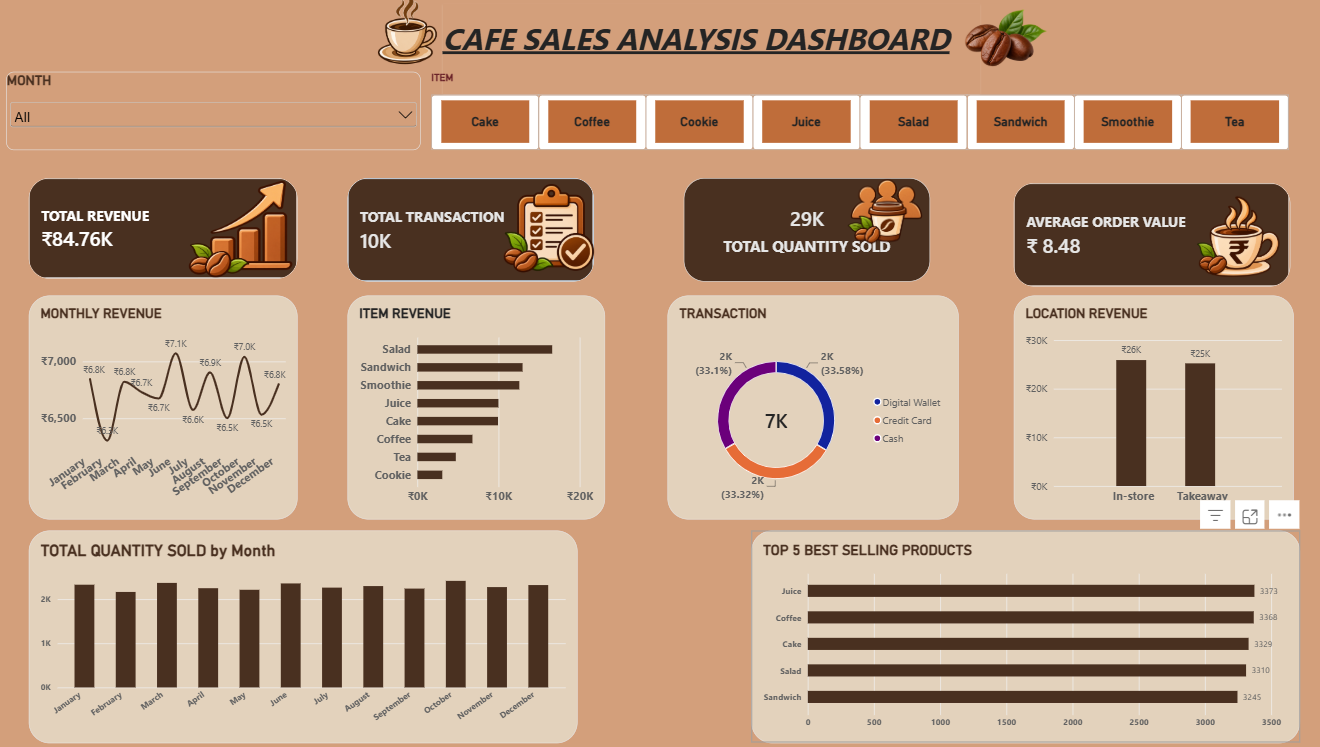

What the dashboard file says about the page in this screenshot:
{"tool":"powerbi","page":{"name":"Page 1","canvas":[1920,1080],"ordinal":0},"visuals":[{"type":"cardVisual","fields":{"Data":["clean_cafe_sales.TOTAL REVENUE"]},"box":[48,264,384,144],"z":0},{"type":"cardVisual","fields":{"Data":["clean_cafe_sales.TOTAL TRANSACTION"]},"box":[504,264,352,148],"z":1000},{"type":"card","fields":{"Values":["clean_cafe_sales.TOTAL QUANTITY SOLD"]},"box":[984,264,352,148],"z":2000},{"type":"cardVisual","fields":{"Data":["clean_cafe_sales.AVERAGE ORDER VALUE"]},"box":[1456,272,394.9,148],"z":3000},{"type":"lineChart","title":"MONTHLY REVENUE","fields":{"Category":["clean_cafe_sales.Month"],"Y":["clean_cafe_sales.TOTAL REVENUE"]},"box":[48,432,384,320],"z":4000},{"type":"clusteredBarChart","title":"ITEM REVENUE","fields":{"Category":["clean_cafe_sales.Item"],"Y":["clean_cafe_sales.TOTAL REVENUE"]},"box":[504,432,368,320],"z":5000},{"type":"donutChart","title":" TRANSACTION","fields":{"Category":["clean_cafe_sales.Payment Method"],"Y":["clean_cafe_sales.TOTAL TRANSACTION"]},"box":[960,432,416,320],"z":6000},{"type":"clusteredColumnChart","title":"LOCATION REVENUE","fields":{"Category":["clean_cafe_sales.Location"],"Y":["clean_cafe_sales.TOTAL REVENUE"]},"box":[1456,432,400,320],"z":7000},{"type":"clusteredColumnChart","fields":{"Category":["clean_cafe_sales.Month"],"Y":["clean_cafe_sales.TOTAL QUANTITY SOLD"]},"box":[48,768,784,304],"z":8000},{"type":"slicer","title":"MONTH","fields":{"Values":["clean_cafe_sales.Month"]},"box":[16,112,592,112],"z":9000},{"type":"advancedSlicerVisual","title":"ITEM","fields":{"Values":["clean_cafe_sales.Item"]},"box":[624,112,1232,112],"z":10000},{"type":"clusteredBarChart","title":"TOP 5 BEST SELLING PRODUCTS","fields":{"Category":["clean_cafe_sales.Item"],"Y":["clean_cafe_sales.TOTAL QUANTITY SOLD"]},"box":[1080,768,784,304],"z":11000},{"type":"textbox","box":[640,16,768,128],"z":13000},{"type":"image","box":[384,0,416,112],"z":13001},{"type":"image","box":[1312,16,256,96],"z":13002},{"type":"image","box":[1656,288,240,120],"z":13003},{"type":"image","box":[120,264,456,144],"z":13004},{"type":"image","box":[720,144,144,384],"z":13005},{"type":"image","box":[1032,264,480,96],"z":13006}]}

Visuals, with their boxes in screenshot pixels (x1, y1, x2, y2), scaled from the page's 1920x1080 canvas onto the 1320x747 screenshot:
cardVisual - clean_cafe_sales.TOTAL REVENUE: box=[33, 183, 297, 282]
cardVisual - clean_cafe_sales.TOTAL TRANSACTION: box=[346, 183, 588, 285]
card - clean_cafe_sales.TOTAL QUANTITY SOLD: box=[676, 183, 918, 285]
cardVisual - clean_cafe_sales.AVERAGE ORDER VALUE: box=[1001, 188, 1272, 290]
"MONTHLY REVENUE" lineChart: box=[33, 299, 297, 520]
"ITEM REVENUE" clusteredBarChart: box=[346, 299, 600, 520]
" TRANSACTION" donutChart: box=[660, 299, 946, 520]
"LOCATION REVENUE" clusteredColumnChart: box=[1001, 299, 1276, 520]
clusteredColumnChart - clean_cafe_sales.Month x clean_cafe_sales.TOTAL QUANTITY SOLD: box=[33, 531, 572, 741]
"MONTH" slicer: box=[11, 77, 418, 155]
"ITEM" advancedSlicerVisual: box=[429, 77, 1276, 155]
"TOP 5 BEST SELLING PRODUCTS" clusteredBarChart: box=[742, 531, 1282, 741]
textbox: box=[440, 11, 968, 100]
image: box=[264, 0, 550, 77]
image: box=[902, 11, 1078, 77]
image: box=[1138, 199, 1304, 282]
image: box=[82, 183, 396, 282]
image: box=[495, 100, 594, 365]
image: box=[710, 183, 1040, 249]
